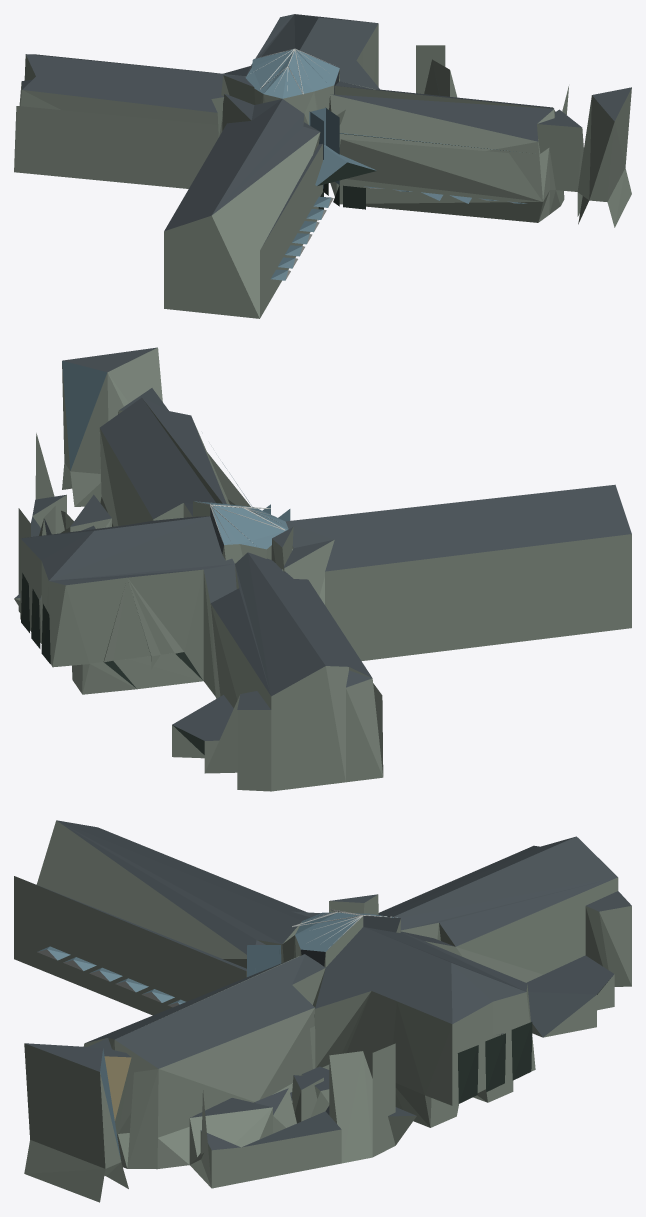
Rendered from max-euwe-centrum.lod2.glb.
The picture shows the model from 3 angles, top to bottom: view 1: azimuth 30°, elevation 25°; view 2: azimuth 150°, elevation 25°; view 3: azimuth 270°, elevation 25°; orthographic projection. The views are drawn at different scales.
Parts seen in each view (by area): view 1: lod2; view 2: lod2; view 3: lod2.
Boxes of the visible parts, bbox=[...] form: lod2: bbox=[14, 14, 631, 318]; lod2: bbox=[14, 347, 631, 791]; lod2: bbox=[14, 820, 631, 1202].
Size of the model in its own units: 73.21 by 18.31 by 68.2.
